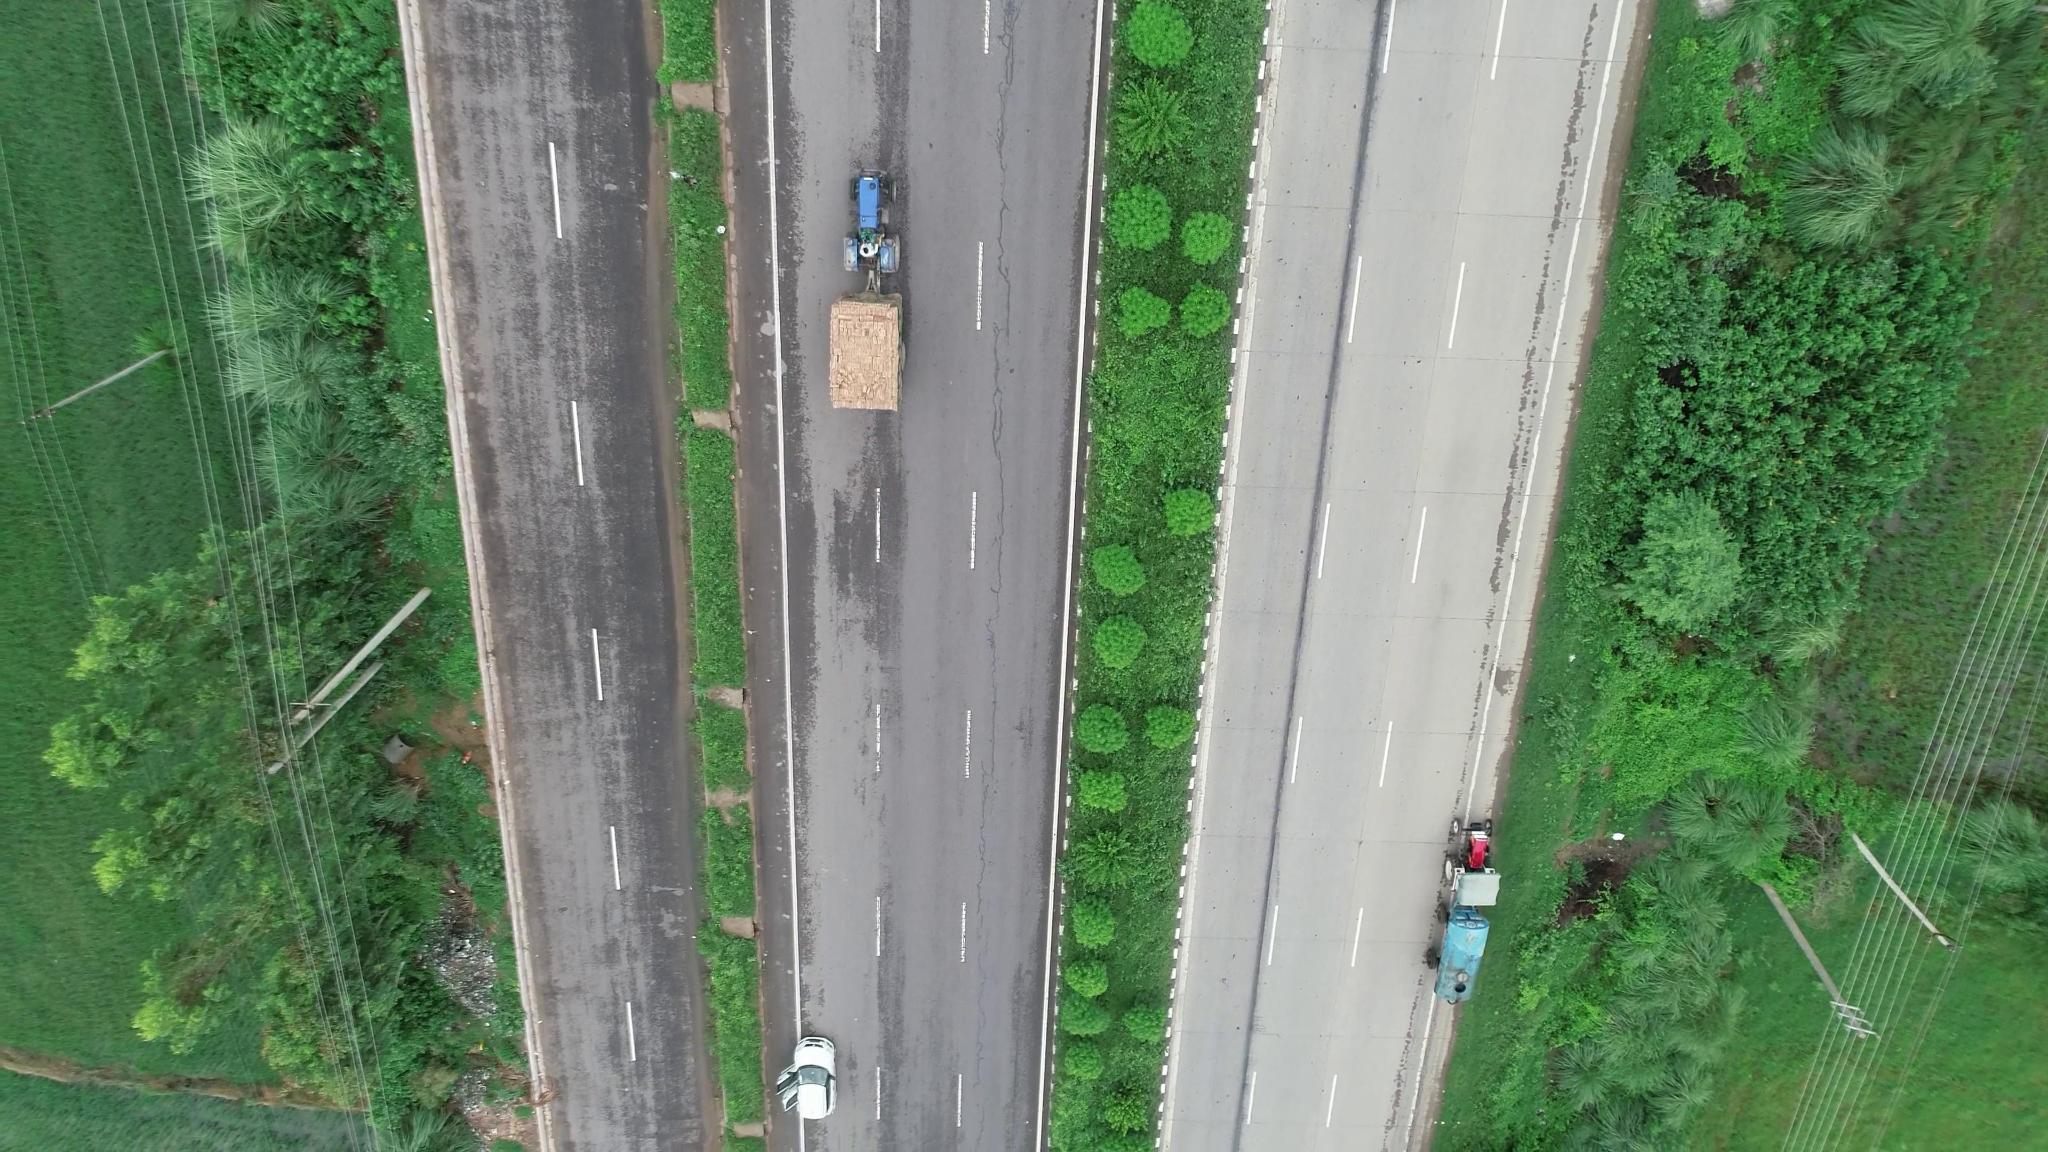Cracks: (976, 20, 1041, 615), (966, 623, 1011, 1135)
